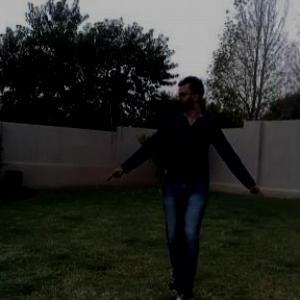land: (107, 75, 273, 293)
